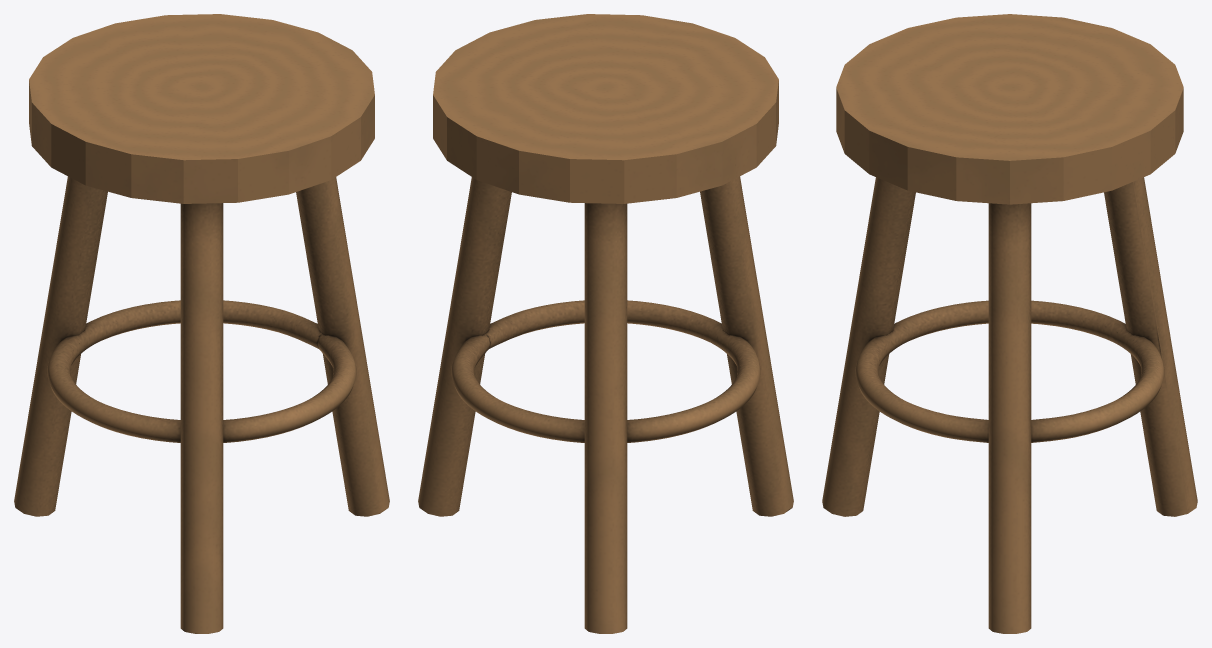
Rendered from movel_banqueta.glb.
The picture shows the model from 3 angles, left to right: view 1: azimuth 30°, elevation 25°; view 2: azimuth 150°, elevation 25°; view 3: azimuth 270°, elevation 25°; orthographic projection.
Parts seen in each view (by area): view 1: movel_banqueta; view 2: movel_banqueta; view 3: movel_banqueta.
Part boxes in pixels (x1,y1,x2,y2): movel_banqueta: [14, 14, 389, 633]; movel_banqueta: [418, 14, 793, 633]; movel_banqueta: [822, 14, 1197, 633].
Size of the model in its own units: 0.4006 by 0.5284 by 0.389.
Materials: 1 (1 with a texture image).
